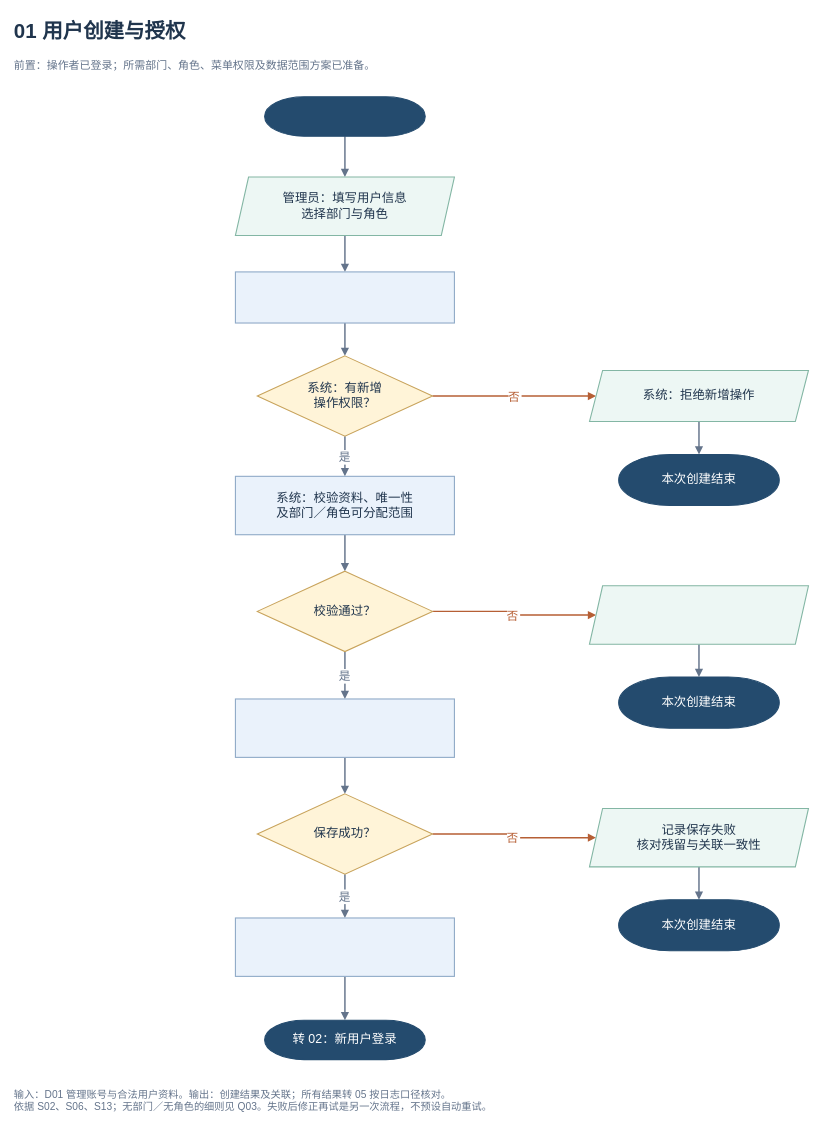
Image size: 835x1139. Some labels were removed from this diagram. The shapes that lost their labels are listed below. From the top down, each one's box as (x1, y1, x2, y2) in pixels, then its label:
(264, 96, 425, 136): 开始
(235, 271, 455, 323): 管理员：提交创建请求
(589, 585, 809, 644): 系统：返回校验失败 测试人员：记录原因
(235, 698, 455, 758): 系统：保存用户 及用户角色等关联
(235, 917, 455, 977): 管理员：核对用户资料 部门与角色关联
